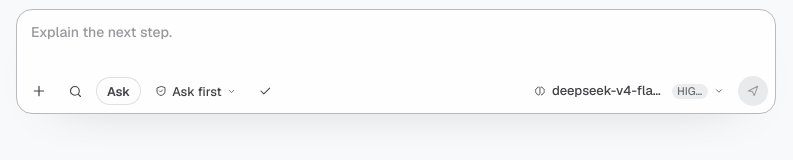
Test: Composer prompt predictions › invalidates on input even without a draft change
Clear the text box named "Ask the agent / describe a task…" at (396, 41), box [17,10,775,71]
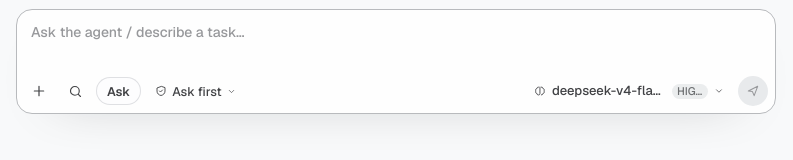
Expected: the text with class "composer-prediction" is gone
